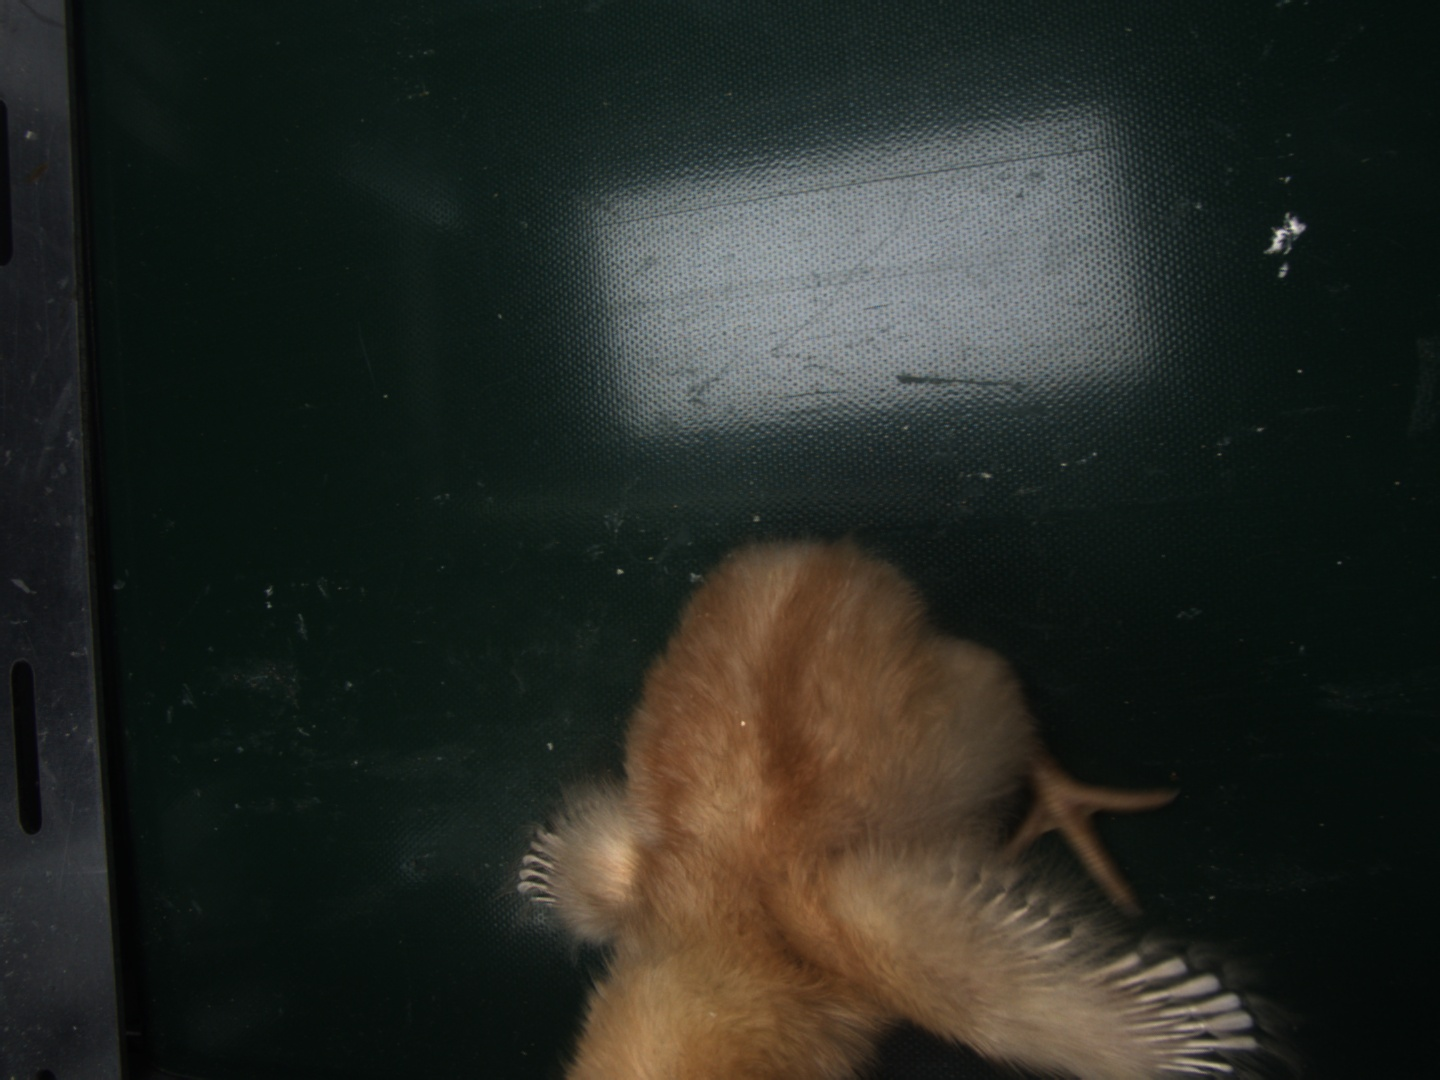female: (1083, 951, 1257, 1075)
